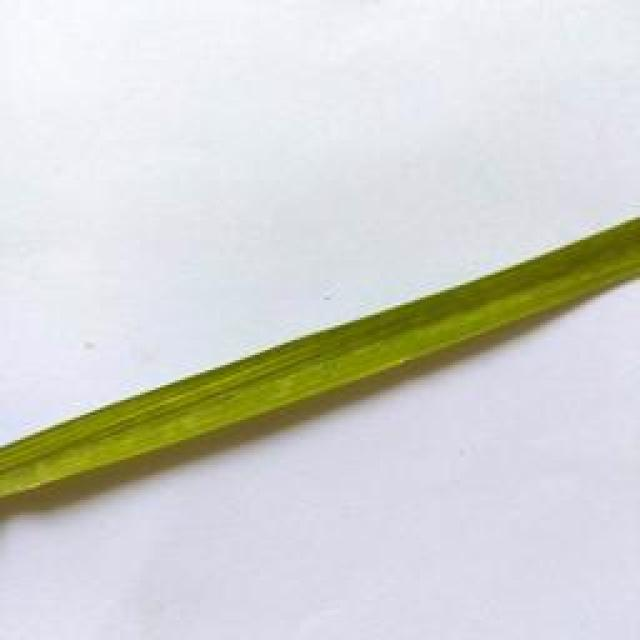Healthy-Plant: (0, 217, 640, 500)
